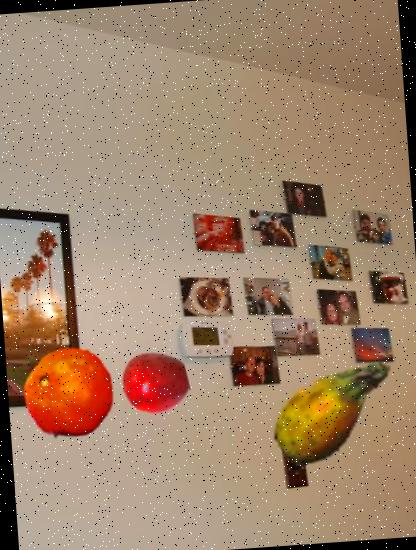Cactus: (256, 330, 408, 482)
Cherry: (119, 346, 191, 417)
Clementine: (18, 342, 120, 444)
